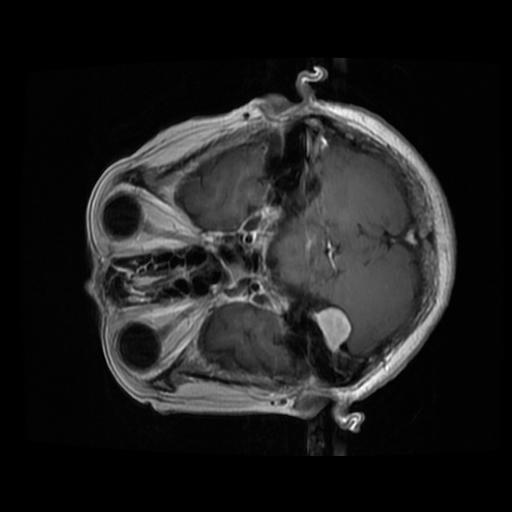meningioma: (314, 308, 351, 352)
